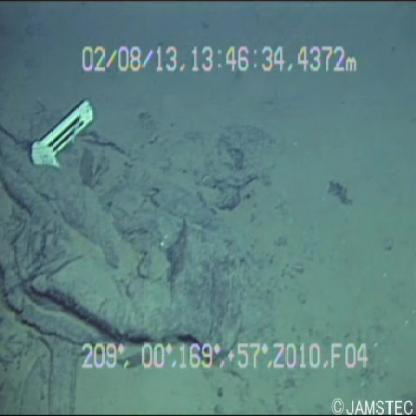Rác: (16, 96, 113, 181)
